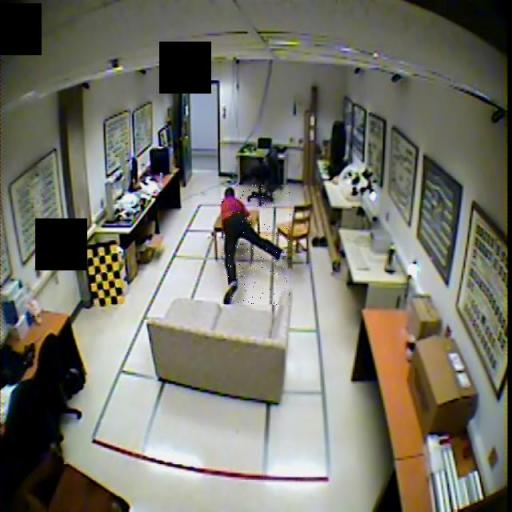Fall: (223, 185, 292, 305)
